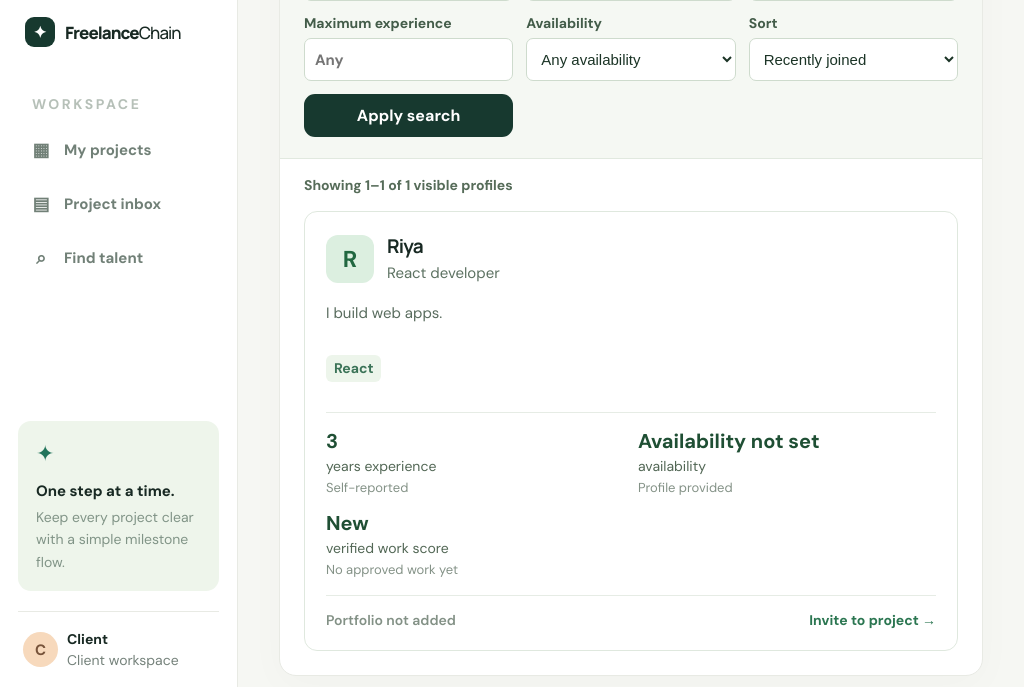
Test: client can invite a visible freelancer to an open project
(page scrolled)
Expected: the link "Riya" is shown, [387,233,423,259]
Click the button "Invite to project →". click: (873, 620)
box: [809,611,936,629]
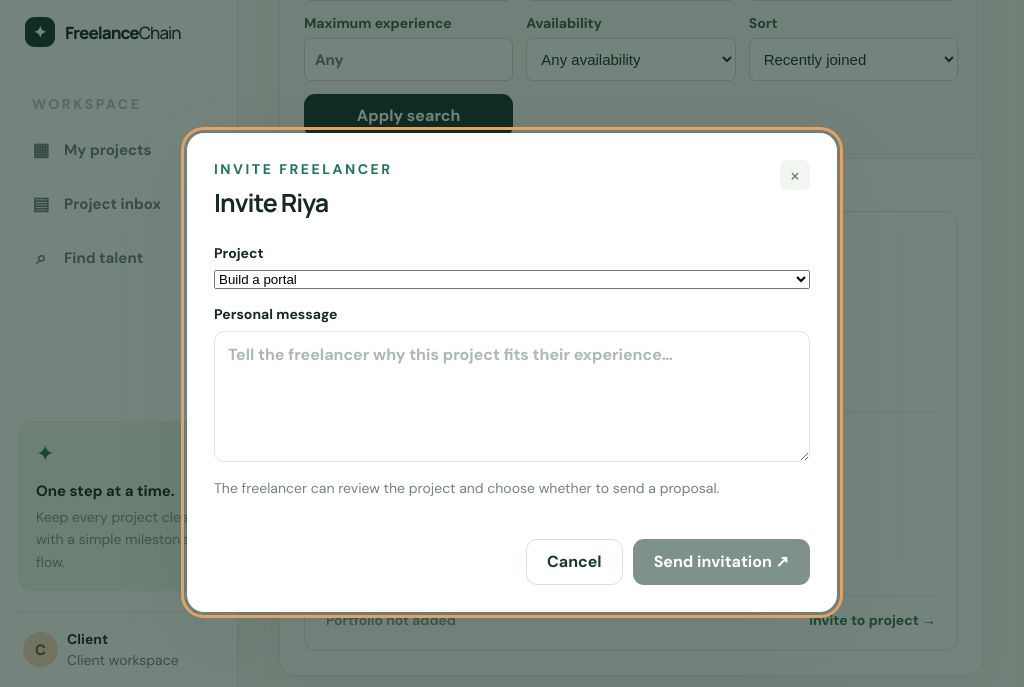
Type "Your React experience fits this portal project." into the text box with placeholder "Tell the freelancer why this project fits their experience…". click: (512, 396)
box: [214,330,810,462]
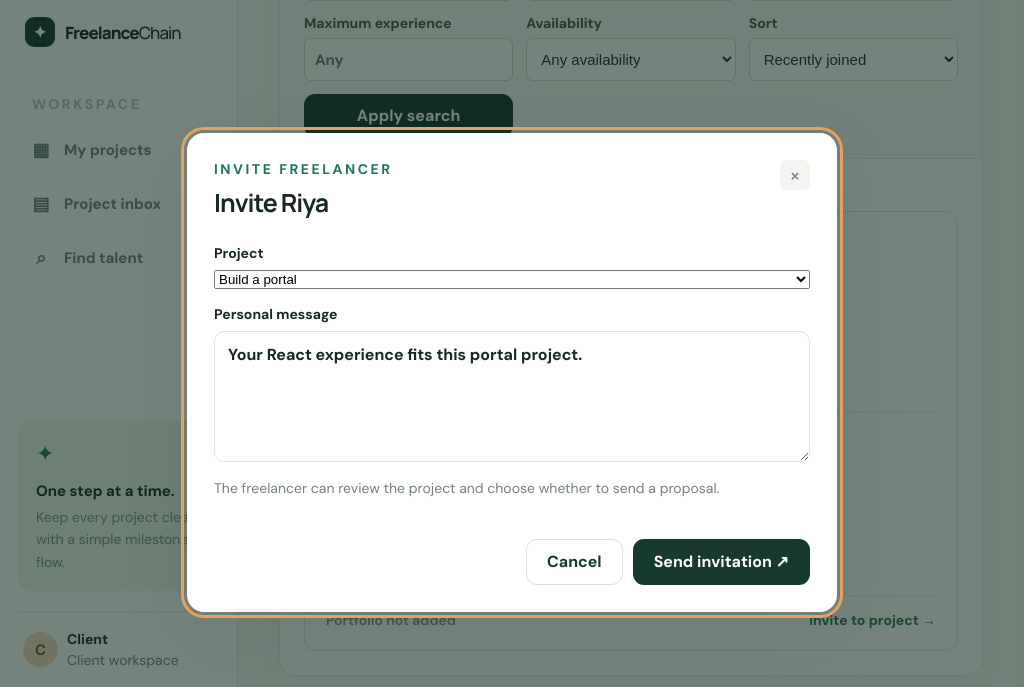
Click the button "Send invitation ↗". click: (721, 562)
box: [633,538,810,584]
(page scrolled)
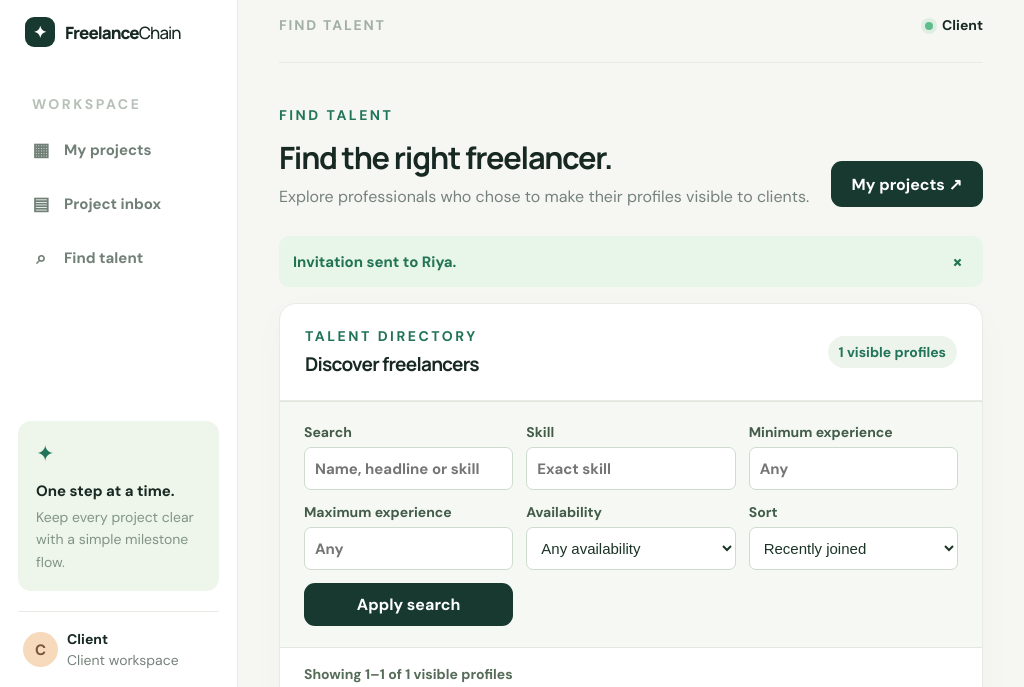
Result: the text "Invitation sent to Riya. ×" is shown at [279,236,983,287]
